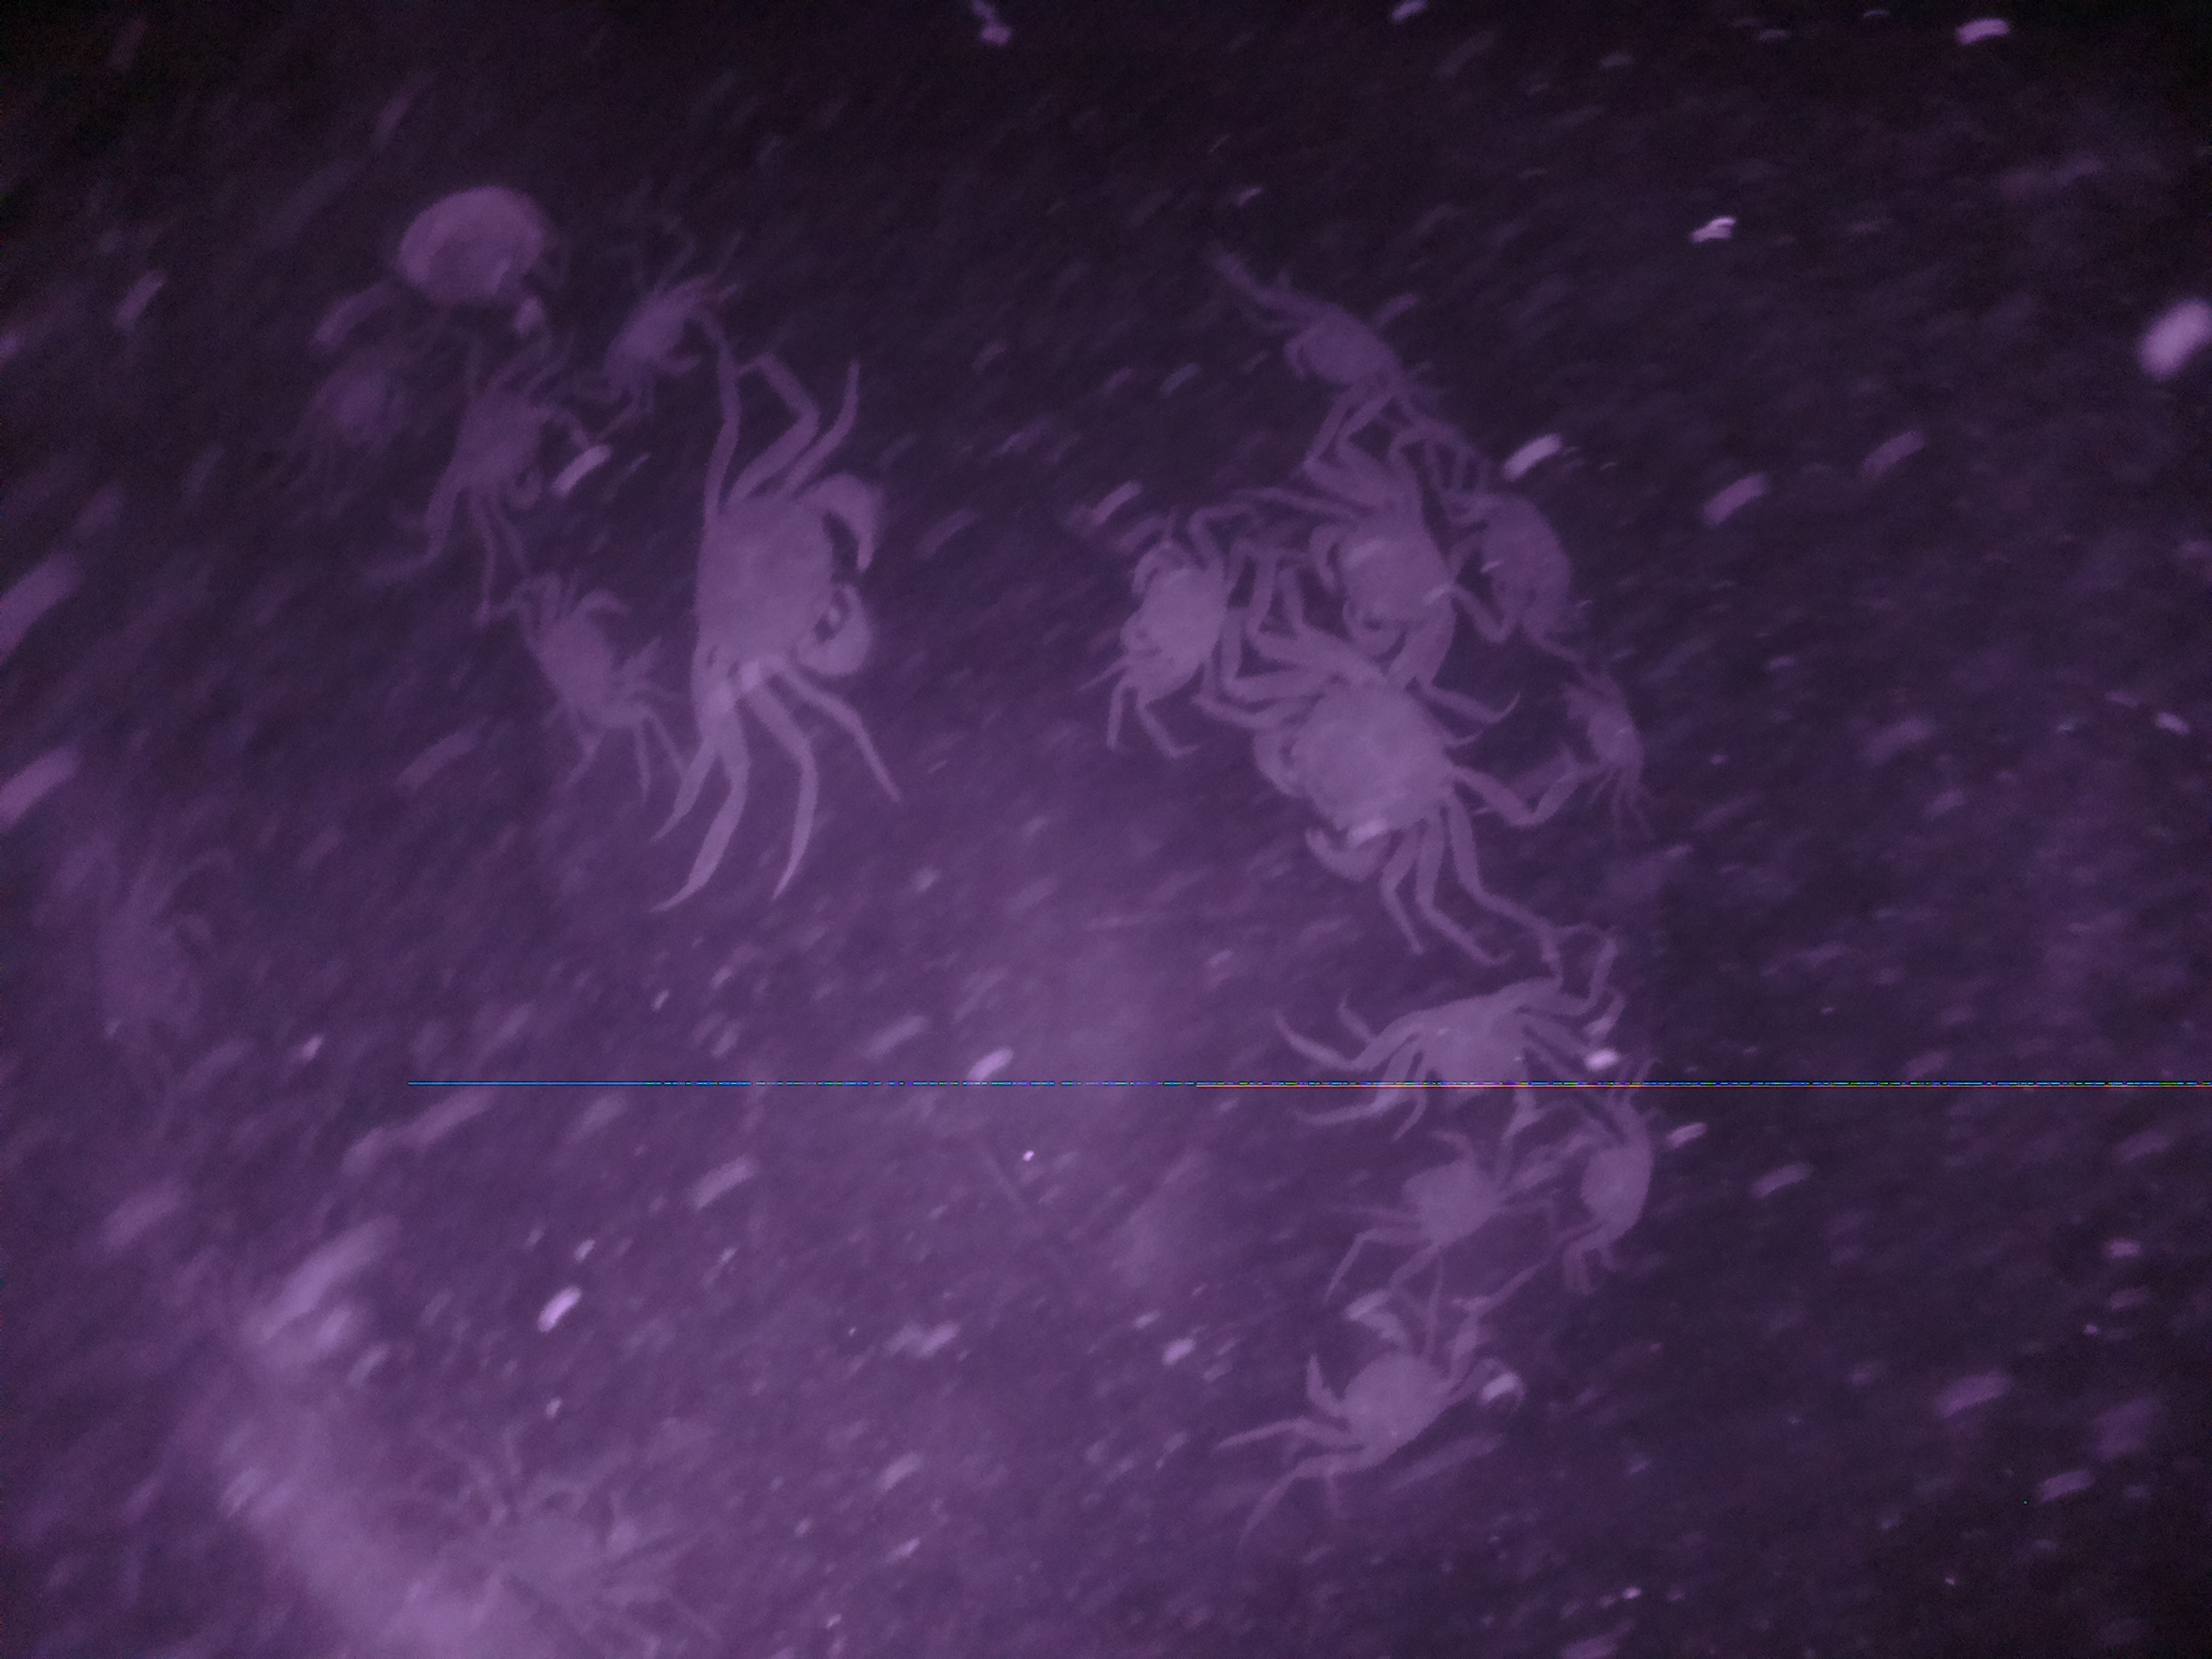Crab: (674, 425, 895, 730), (1242, 641, 1493, 887), (1278, 1281, 1501, 1497), (1282, 481, 1474, 662), (507, 570, 686, 758), (1092, 502, 1251, 702), (1566, 1103, 1669, 1270)
